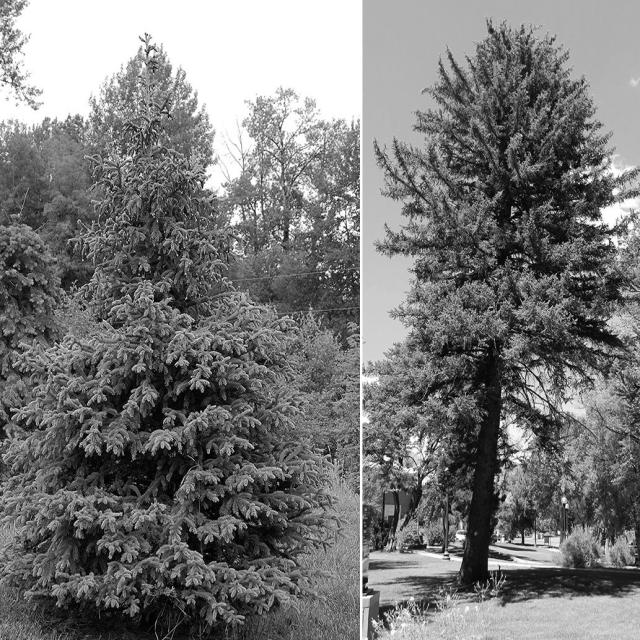Pseudotsuga menziesii: (7, 22, 341, 640), (369, 12, 626, 577)
